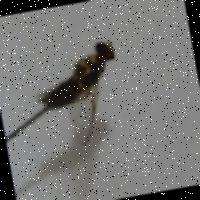Oriental-fruit-fly: (19, 24, 150, 162)
